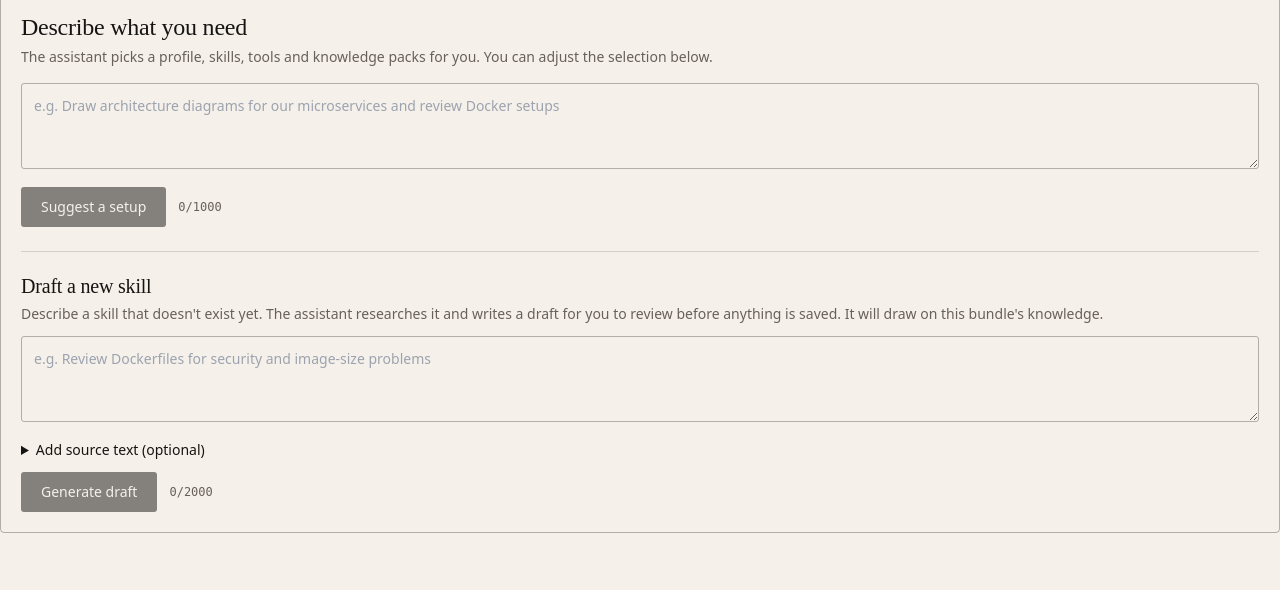
Test case: HintPanel: skill draft › passes config_bundle_id when editing a bundle and explains it
This screenshot has width=1280, height=590.
Type "review docker" into the text box named "What should the agent do?" at (640, 126), box top-left (21, 83), bottom-right (1259, 169)
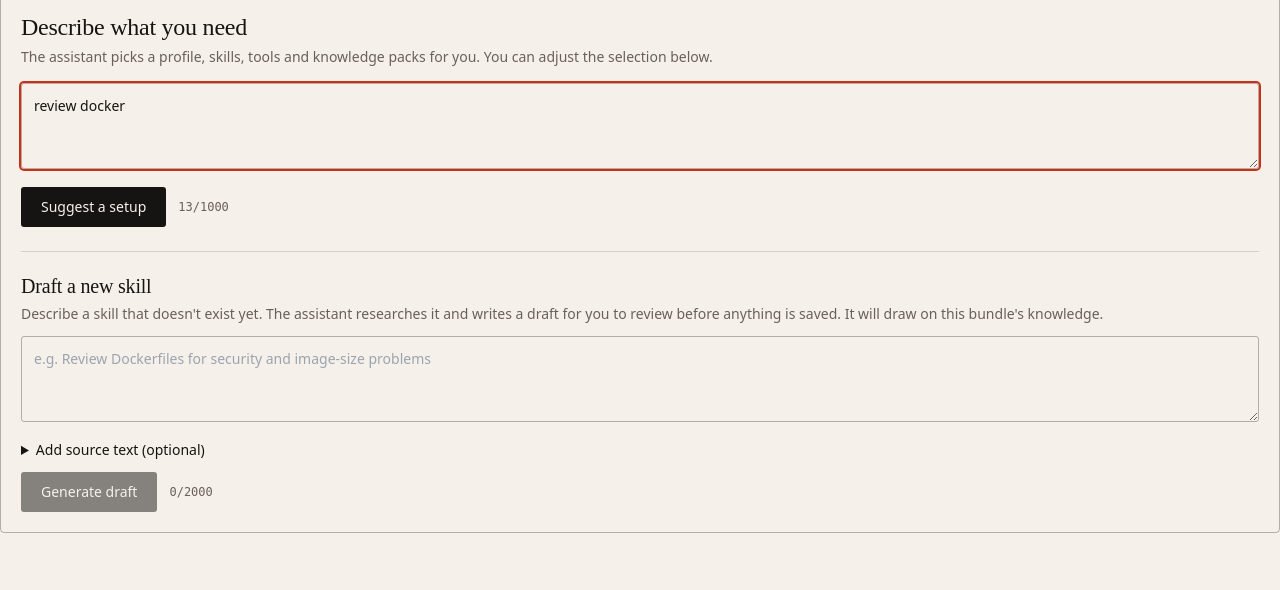
Click the button "Suggest a setup" at (94, 207), box top-left (21, 187), bottom-right (166, 227)
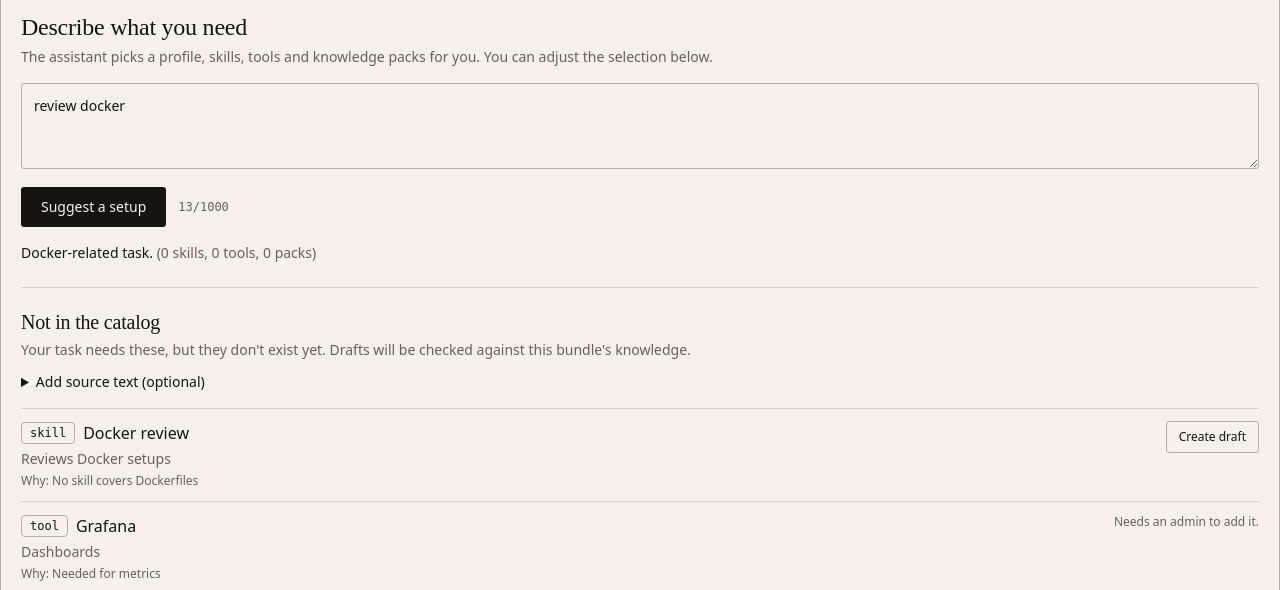
Now the text "Docker-related task. (0 skills, 0 tools, 0 packs)" is shown, box top-left (21, 243), bottom-right (316, 262)
Now the text "checked against this bundle's knowledge" is shown, box top-left (330, 340), bottom-right (691, 359)
Click the button with aria-label "Create draft: Docker review" at (1212, 437), box top-left (1166, 421), bottom-right (1259, 453)
(page scrolled)
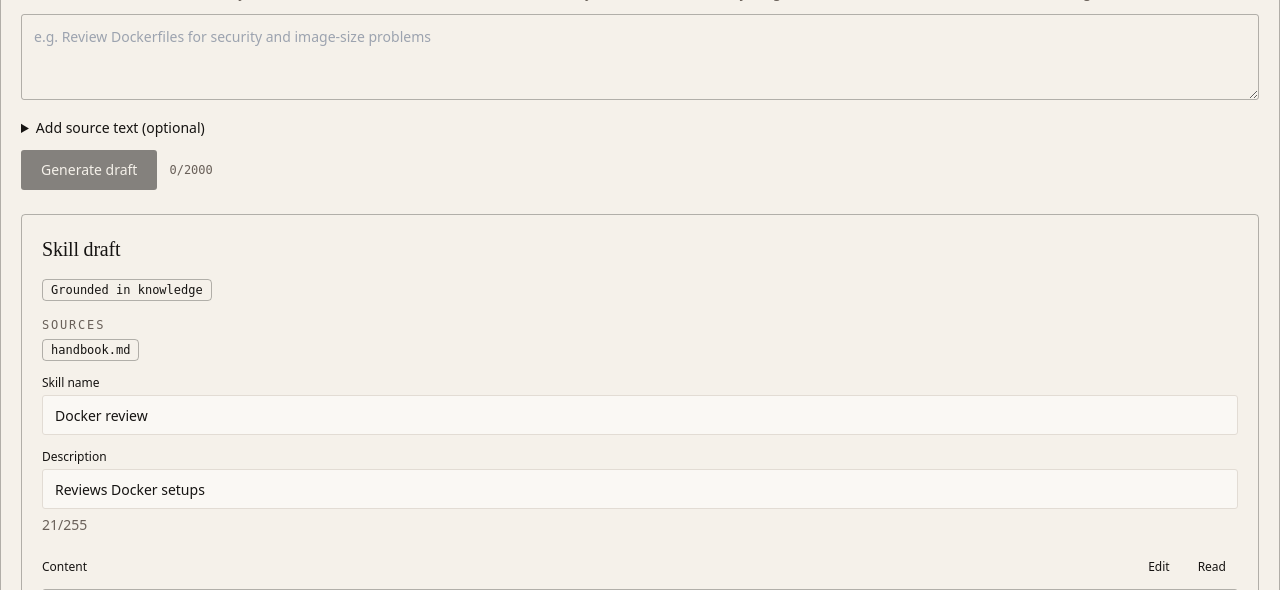
Now the text "Grounded in knowledge" is shown, box top-left (42, 279), bottom-right (212, 301)
Now the text "handbook.md" is shown, box top-left (42, 339), bottom-right (140, 361)
